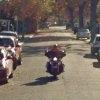Motorcycle: (37, 41, 80, 83)
